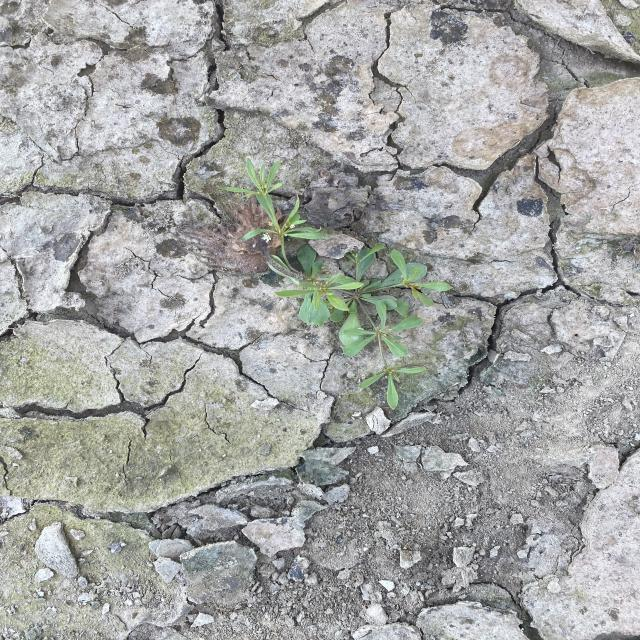Carpetweed: (213, 155, 455, 411)
